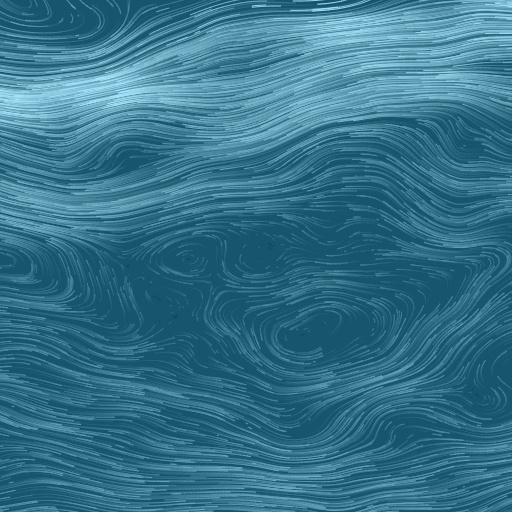eddy: (255, 294, 380, 370), (151, 230, 227, 280)
